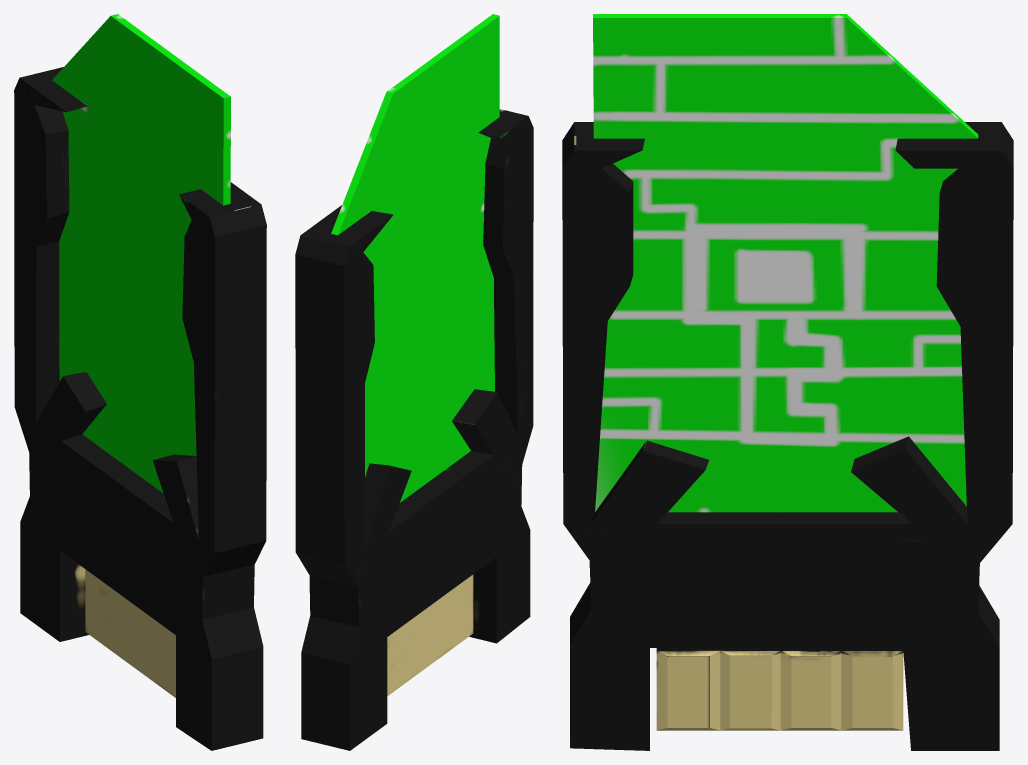
Rendered from chip.fbx.
The picture shows the model from 3 angles, left to right: view 1: azimuth 30°, elevation 25°; view 2: azimuth 150°, elevation 25°; view 3: azimuth 270°, elevation 25°; orthographic projection. The views are drawn at different scales.
Parts seen in each view (by area): view 1: Cube; view 2: Cube; view 3: Cube.
Part boxes in pixels (x1=…): Cube: x1=14, y1=14, x2=266, y2=750; Cube: x1=295, y1=14, x2=533, y2=750; Cube: x1=562, y1=14, x2=1013, y2=750.
Bounding box in the file's own units: 3.68 × 43.55 × 24.71.
